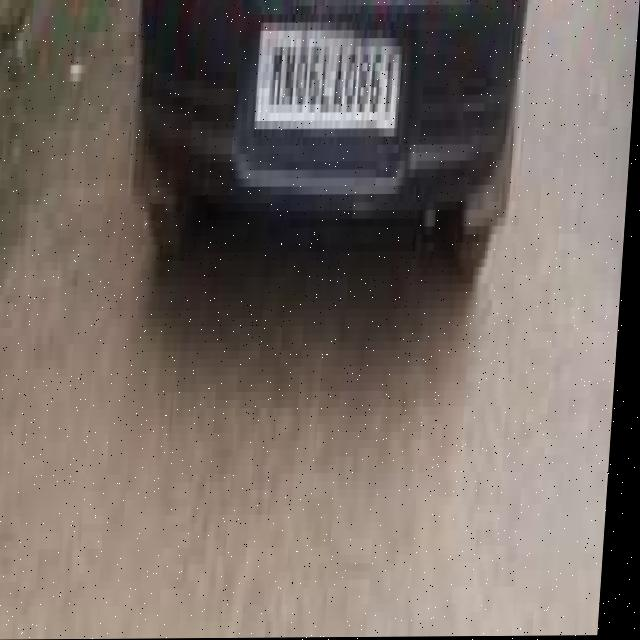plate: (254, 14, 406, 142)
